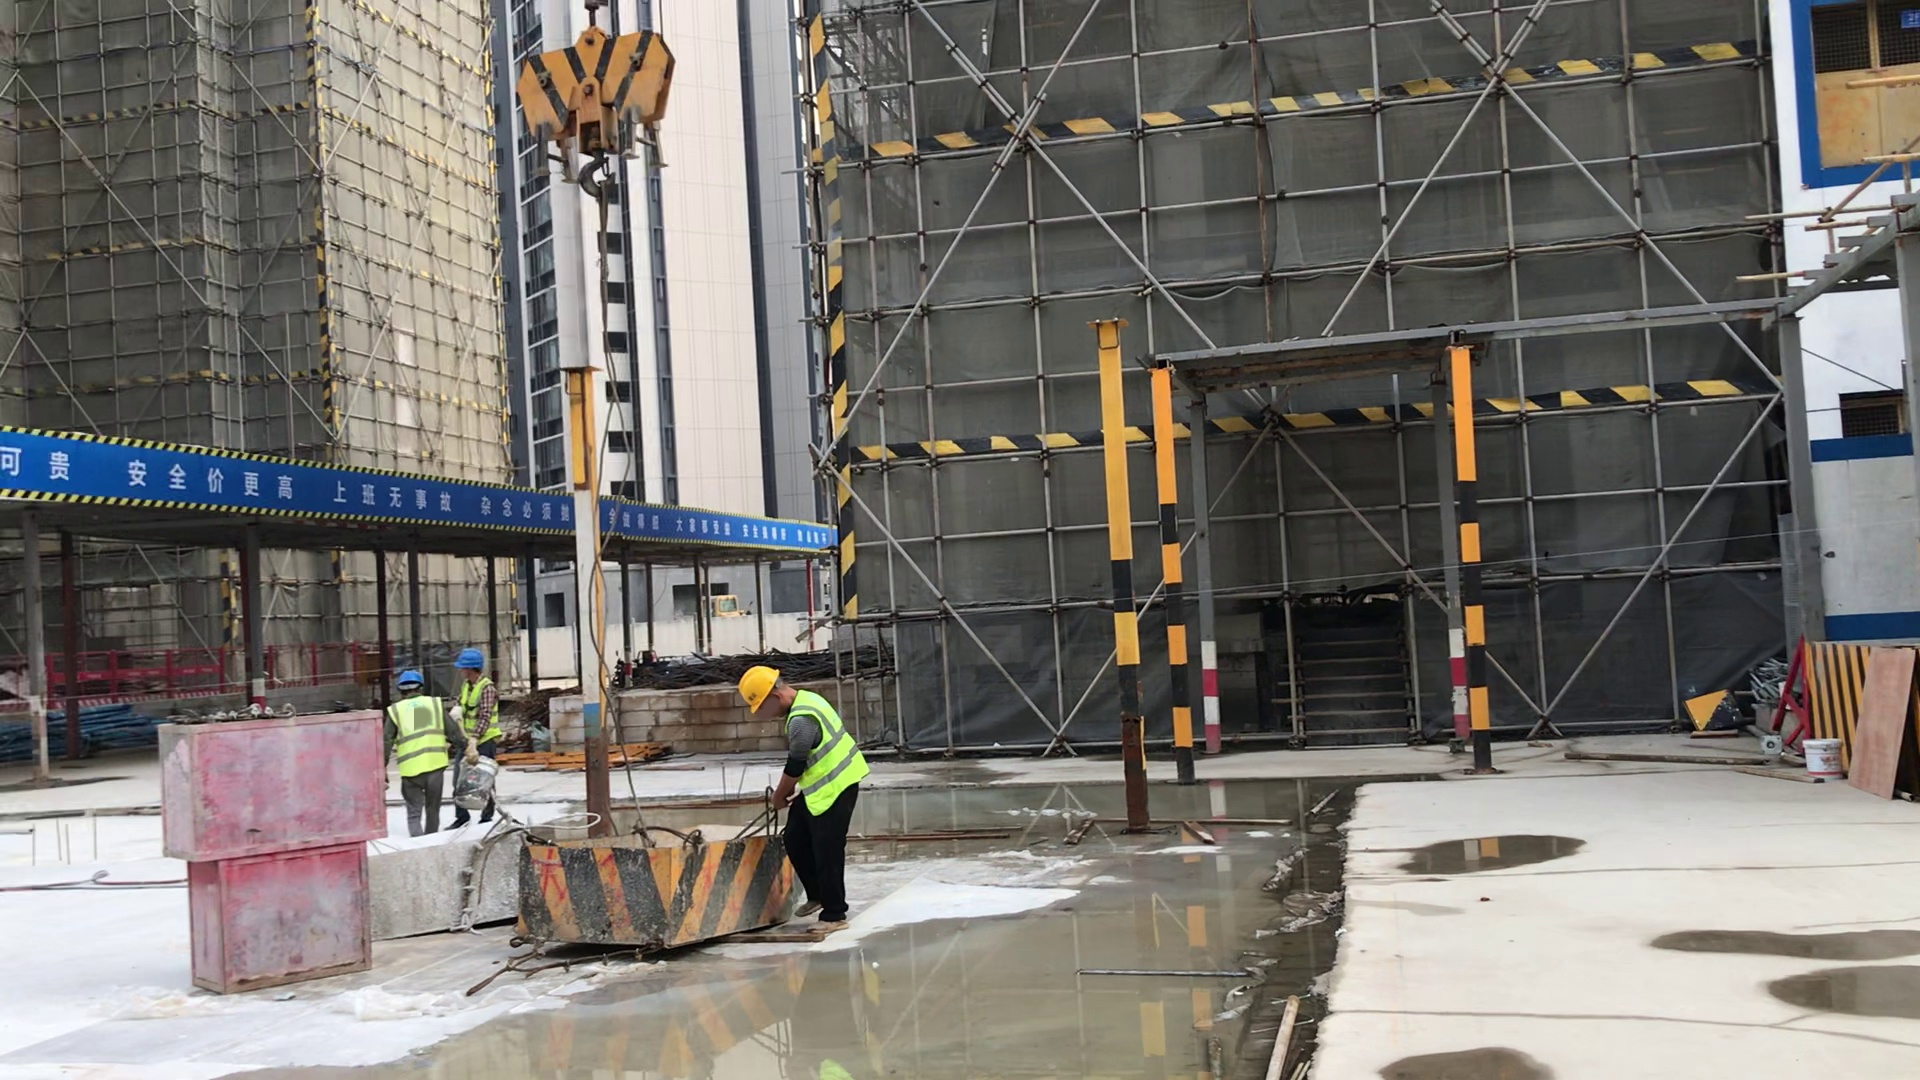fence: (40, 638, 406, 715)
helmet: (732, 654, 773, 713), (460, 641, 489, 664), (396, 668, 422, 690)
hook: (506, 4, 680, 198)
hopper: (511, 811, 788, 953), (349, 816, 515, 946)
person: (728, 669, 856, 930), (373, 663, 448, 835), (445, 634, 497, 827)
slogan: (1, 420, 847, 558)
vest: (764, 702, 869, 822), (371, 695, 447, 772), (454, 682, 500, 746)
